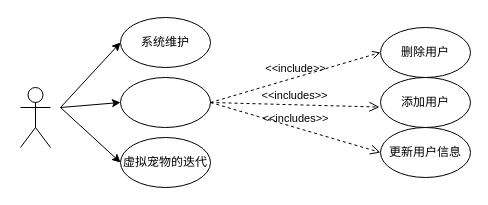
This 488x205 diagram has some shape labels left out. The shapes that lost their labels are listed below. From the top down, each one's centre as x and y in pixels, then its label:
At point (35, 117): "管理员".
At point (165, 102): "删除和添加用户".
